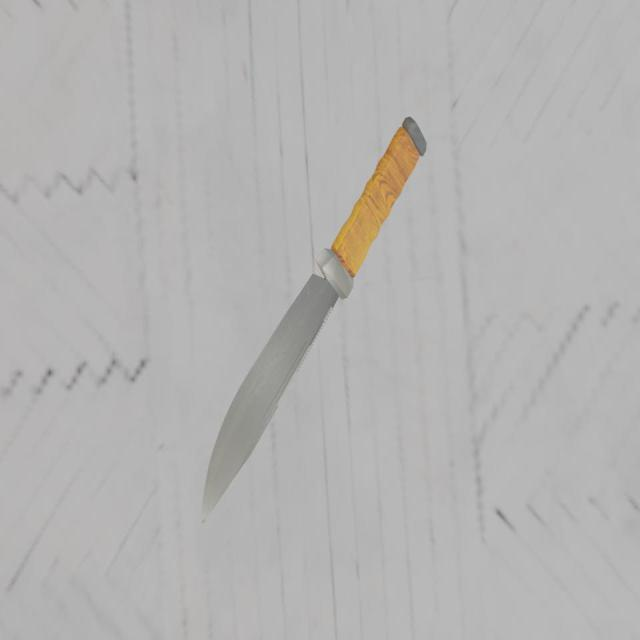knife: (325, 125, 427, 288)
